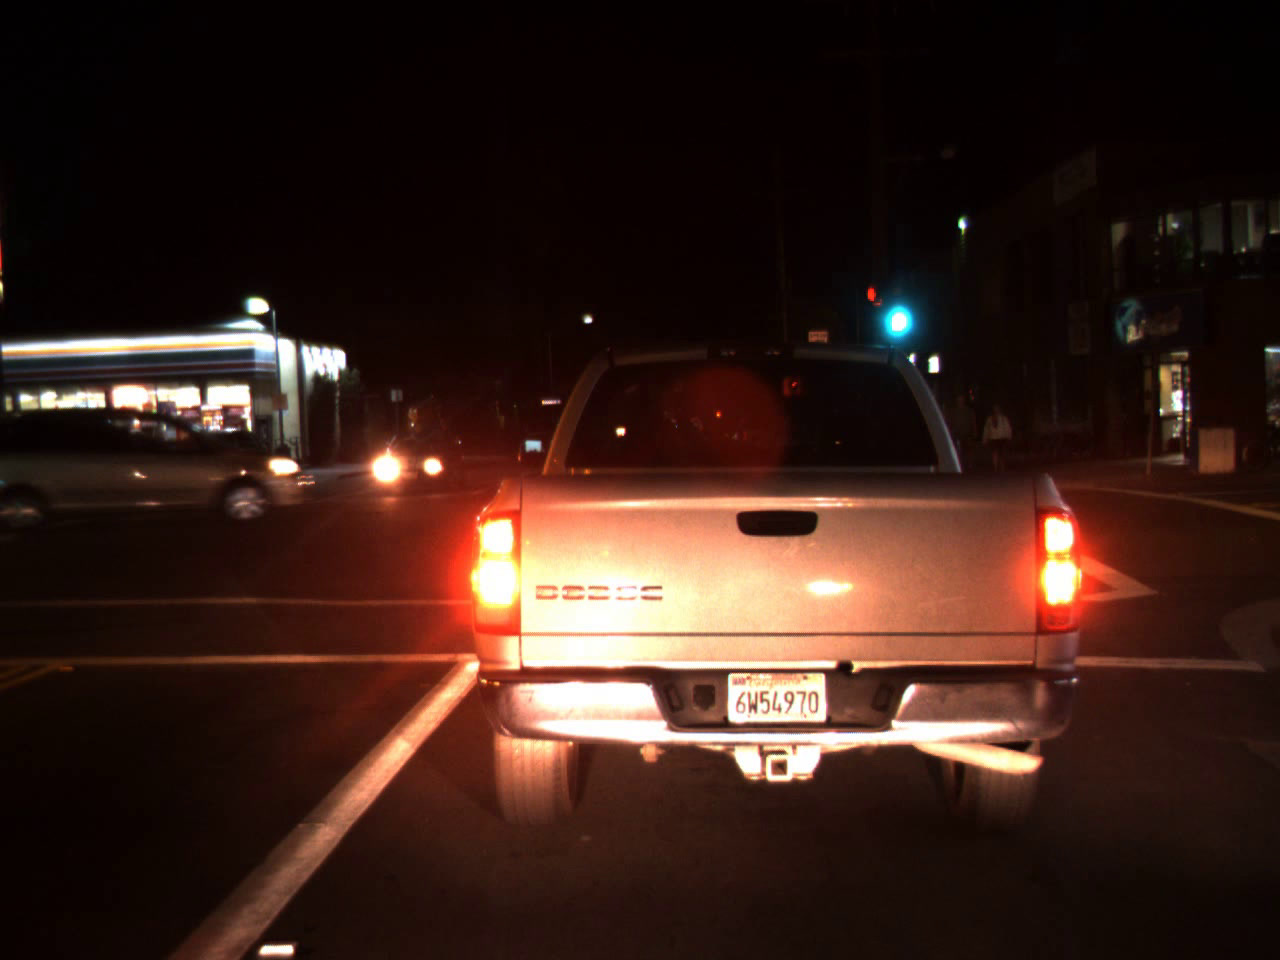go: (875, 271, 912, 343)
